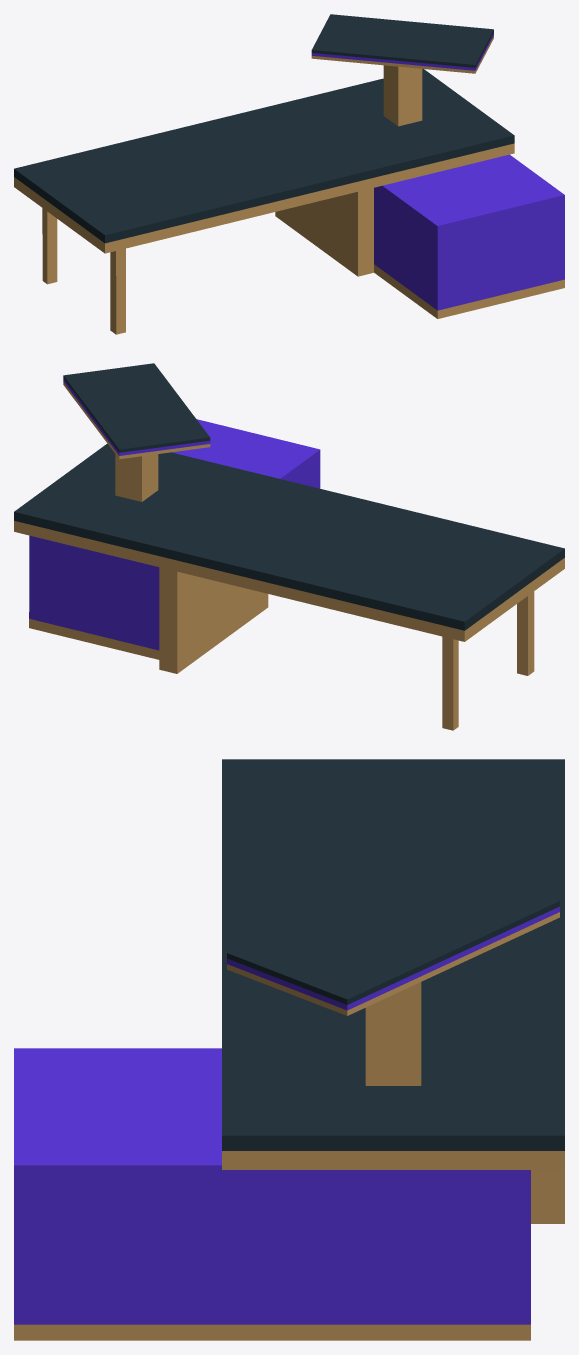
File: RivenRoom_Desk.fbx
3 views of the same model, one above another, from view 1: azimuth 30°, elevation 25°; view 2: azimuth 150°, elevation 25°; view 3: azimuth 270°, elevation 25° (orthographic). The views are drawn at different scales.
Parts seen in each view (by area): view 1: Cube.113; view 2: Cube.113; view 3: Cube.113.
Part boxes in pixels (x1,y1,x2,y2): Cube.113: [14, 14, 564, 334]; Cube.113: [14, 363, 564, 730]; Cube.113: [14, 759, 564, 1340].
Size of the model in its own units: 206 by 88.57 by 124.
